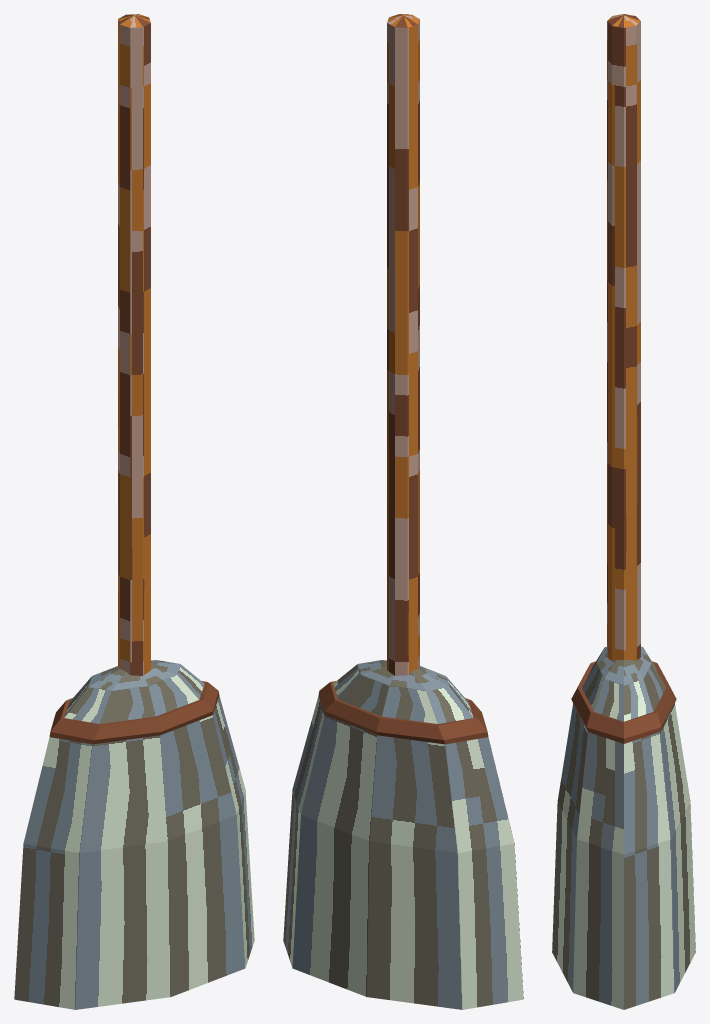
The model's file is mop.glb.
The picture shows the model from 3 angles, left to right: view 1: azimuth 30°, elevation 25°; view 2: azimuth 150°, elevation 25°; view 3: azimuth 270°, elevation 25°; orthographic projection.
Parts seen in each view (by area): view 1: Mop; view 2: Mop; view 3: Mop.
Part boxes in pixels (box(x1,y1,x2,y2)): Mop: box(14, 14, 254, 1009); Mop: box(283, 14, 523, 1009); Mop: box(552, 14, 695, 1009).
Size of the model in its own units: 0.3977 by 1.51 by 0.21.
Materials: 1 (1 with a texture image).
